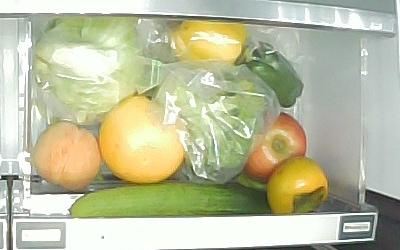apple: (241, 110, 308, 181)
broccoli_vinyl: (156, 66, 268, 182)
cucumber: (68, 183, 271, 217)
grapefruit: (100, 95, 185, 184)
lettuce_vinyl: (33, 17, 159, 120)
paprika_vinyl: (241, 43, 306, 106), (163, 18, 246, 63)
peach: (34, 123, 102, 191)
persimmon: (267, 156, 330, 214)
